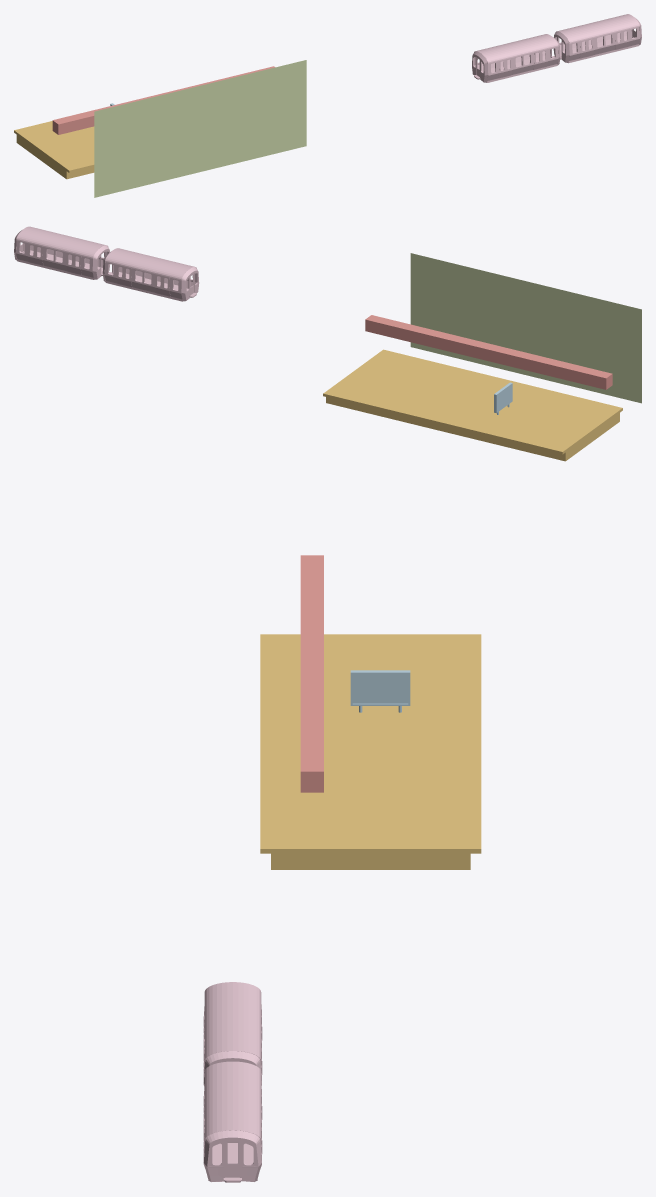
The model's file is transit-extra-screen-added-552-02.glb.
The picture shows the model from 3 angles, top to bottom: view 1: azimuth 30°, elevation 25°; view 2: azimuth 150°, elevation 25°; view 3: azimuth 270°, elevation 25°; orthographic projection. The views are drawn at different scales.
Visible parts, largest first — view 1: Wall-Plane, Train-Complete, Platform, Roof.002; view 2: Wall-Plane, Platform, Train-Complete, Roof.002, Door-right, Door-Left, Screen.001; view 3: Platform, Train-Complete, Roof.002, Screen.001.
Part boxes in pixels (x1,y1,x2,y2): Wall-Plane: (94,60,306,197); Train-Complete: (472,14,641,82); Platform: (14,121,94,179); Roof.002: (52,66,275,134); Wall-Plane: (410,253,641,403); Platform: (323,349,622,461); Train-Complete: (14,226,199,301); Roof.002: (365,315,612,389); Door-right: (35,245,170,296); Door-Left: (28,243,163,294); Screen.001: (494,382,512,414); Platform: (260,634,481,869); Train-Complete: (203,982,261,1182); Roof.002: (300,555,323,792); Screen.001: (350,670,410,712).
Size of the model in its own units: 111 by 16.24 by 26.14.
